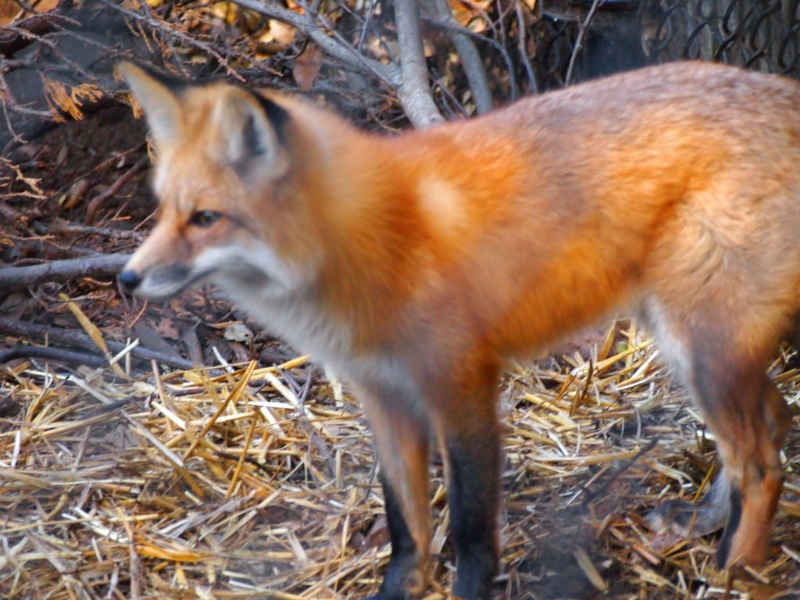fox: (103, 48, 800, 598)
